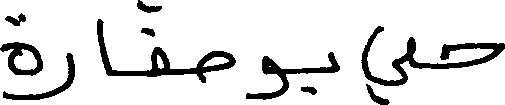ا: (96, 16, 111, 76)
ب: (301, 50, 340, 95)
ة: (0, 10, 45, 75)
ح: (439, 40, 503, 68)
ر: (48, 51, 74, 97)
ص: (196, 48, 236, 82)
ف: (139, 24, 171, 77)
و: (245, 53, 288, 99)
ي: (359, 24, 414, 104)
